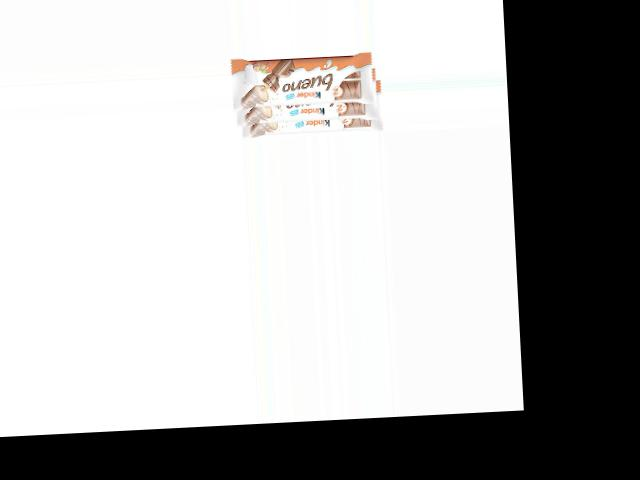chocolate: (233, 50, 382, 138)
